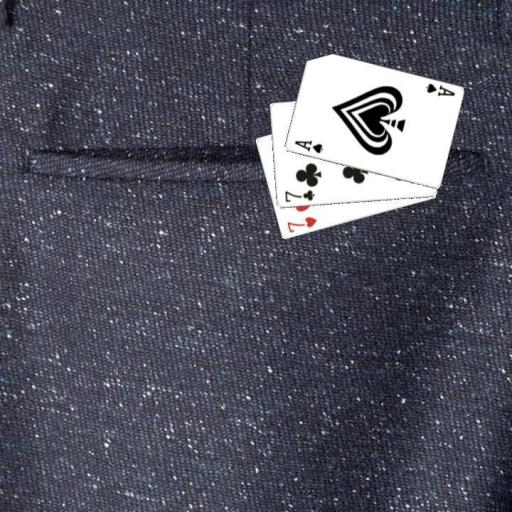card-corner: (284, 213, 318, 235), (422, 80, 456, 98), (282, 187, 316, 204), (291, 137, 323, 155)
